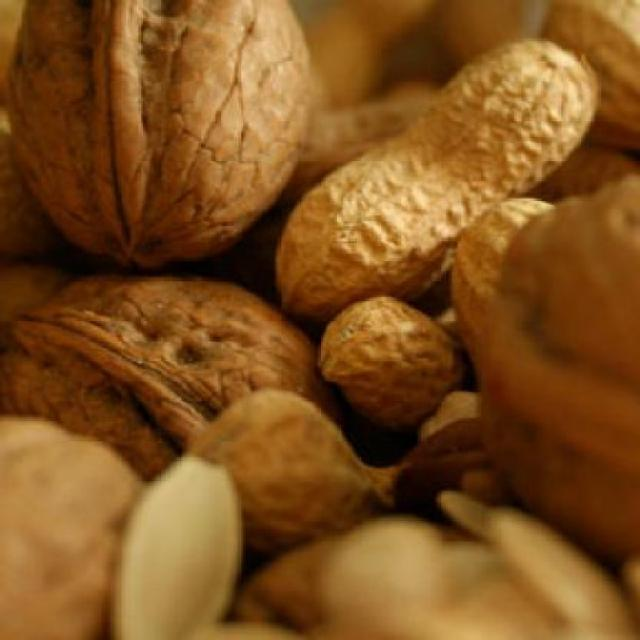Frutta secca: (24, 20, 632, 638)
